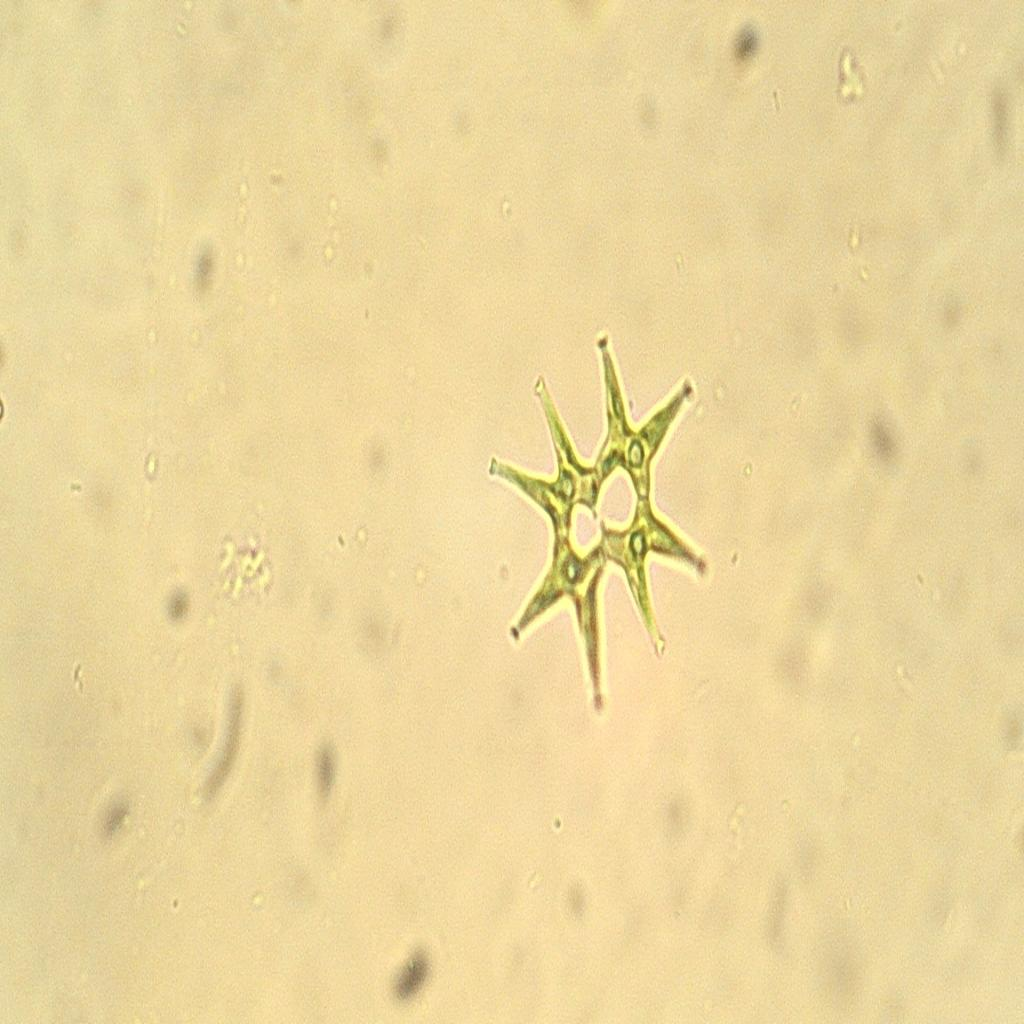Pediastrum_CF: (482, 324, 722, 726)
